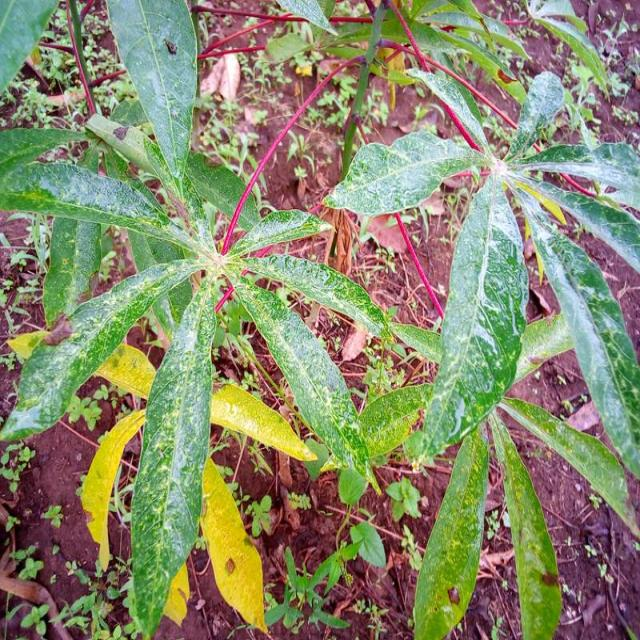cassava leaf: (402, 169, 530, 465), (128, 275, 218, 637), (104, 0, 198, 182), (412, 427, 489, 639)
